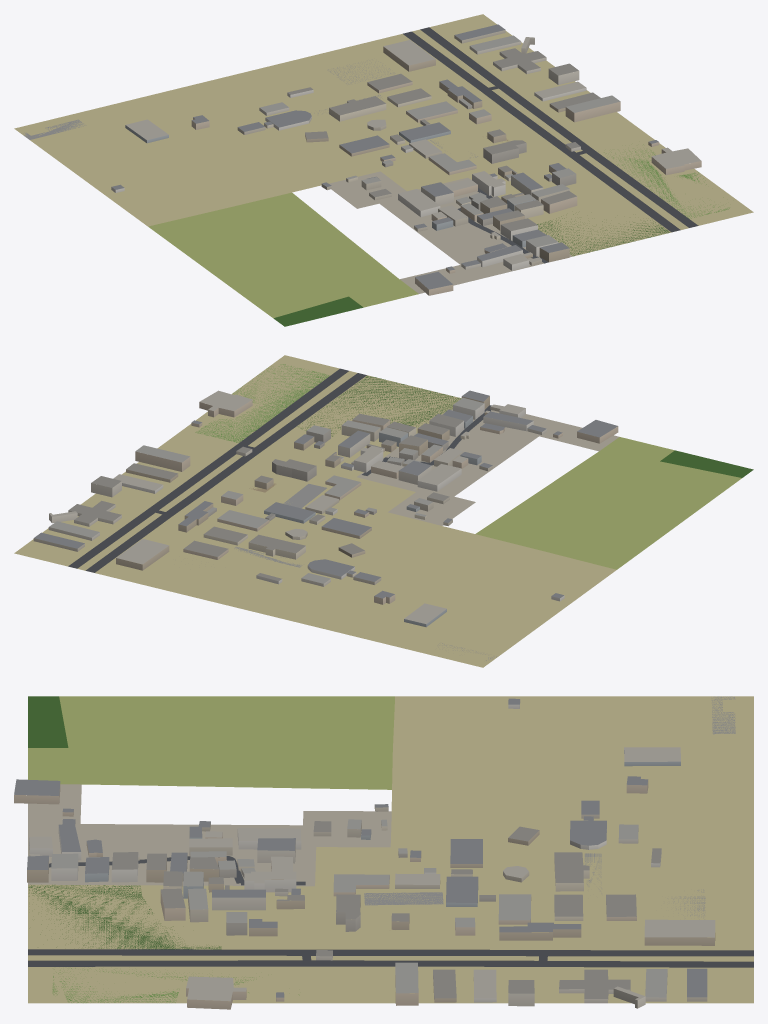
3 renders of one model, top to bottom at view 1: azimuth 30°, elevation 25°; view 2: azimuth 150°, elevation 25°; view 3: azimuth 270°, elevation 25°, orthographic. The views are drawn at different scales.
Parts seen in each view (by area): view 1: landuse, buildings_roofs, buildings_walls, roads; view 2: landuse, buildings_roofs, buildings_walls, roads; view 3: landuse, buildings_roofs, buildings_walls, roads.
Part boxes in pixels (x1,y1,x2,y2): landuse: (14,14,753,326); buildings_roofs: (111,24,701,289); buildings_walls: (111,30,701,295); roads: (403,27,698,263); landuse: (14,355,753,667); buildings_roofs: (34,390,617,623); buildings_walls: (33,396,618,627); roads: (68,368,491,572); landuse: (28,696,753,1003); buildings_roofs: (14,698,715,1001); buildings_walls: (14,699,715,1009); roads: (28,856,753,967).
Size of the model in its own units: 511 by 9.59 by 510.
